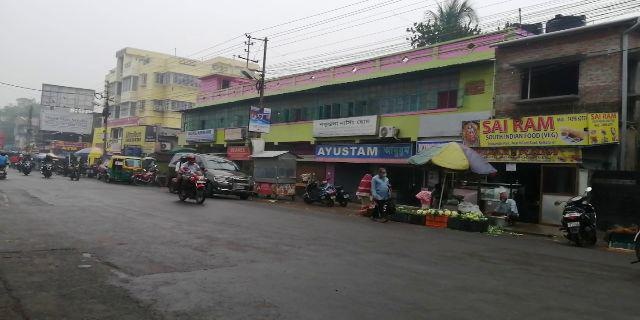Car: (172, 149, 254, 200)
Motorbike: (170, 153, 211, 205)
